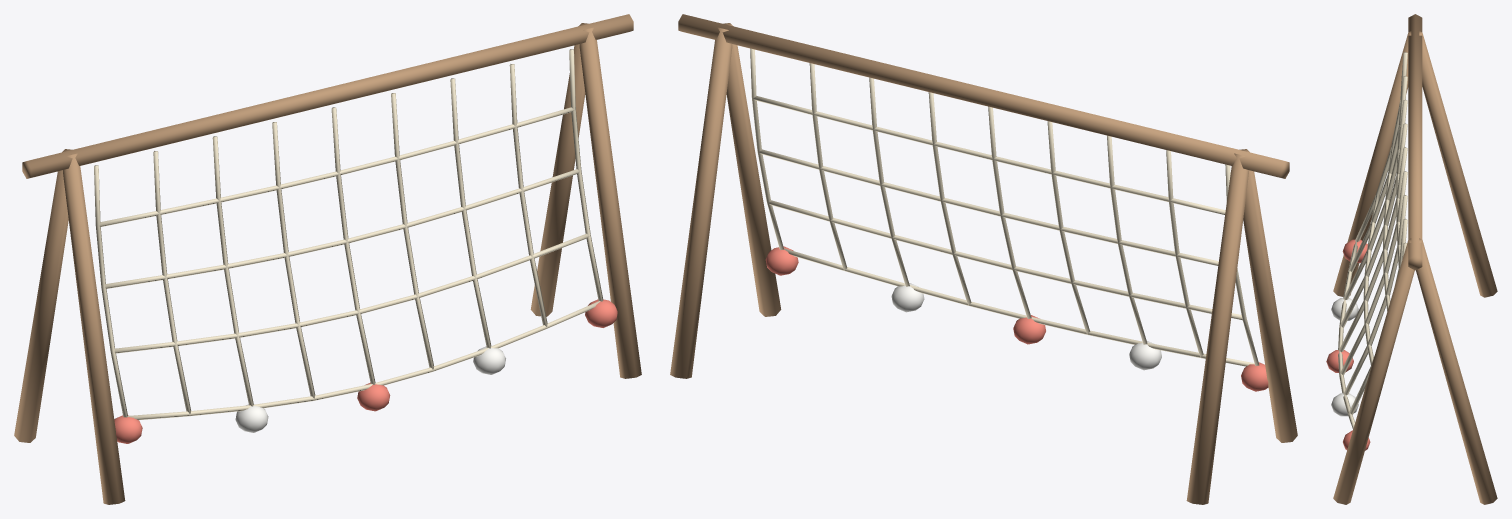
The model's file is fish_net.glb.
3 renders of one model, left to right at view 1: azimuth 30°, elevation 25°; view 2: azimuth 150°, elevation 25°; view 3: azimuth 270°, elevation 25°, orthographic. The views are drawn at different scales.
Parts seen in each view (by area): view 1: Frame, Net, Float.001, Float.004, Float.002, Float.003; view 2: Frame, Net, Float.004, Float.003, Float.002, Float.001; view 3: Frame, Net, Float.003, Float.002, Float.001, Float.
Part boxes in pixels (x1,y1,x2,y2): Frame: (14, 14, 641, 504); Net: (94, 49, 603, 420); Float.001: (235, 404, 268, 432); Float.004: (585, 299, 617, 327); Float.002: (357, 382, 390, 411); Float.003: (473, 346, 505, 374); Frame: (670, 14, 1297, 504); Net: (750, 48, 1259, 366); Float.004: (765, 246, 798, 275); Float.003: (891, 283, 924, 312); Float.002: (1013, 315, 1045, 344); Float.001: (1129, 341, 1161, 370); Frame: (1333, 14, 1497, 504); Net: (1338, 52, 1407, 429); Float.003: (1331, 393, 1358, 416); Float.002: (1326, 350, 1353, 372); Float.001: (1331, 298, 1358, 320); Float: (1342, 239, 1367, 262).
Size of the model in its own units: 3.5 by 1.78 by 1.05.
